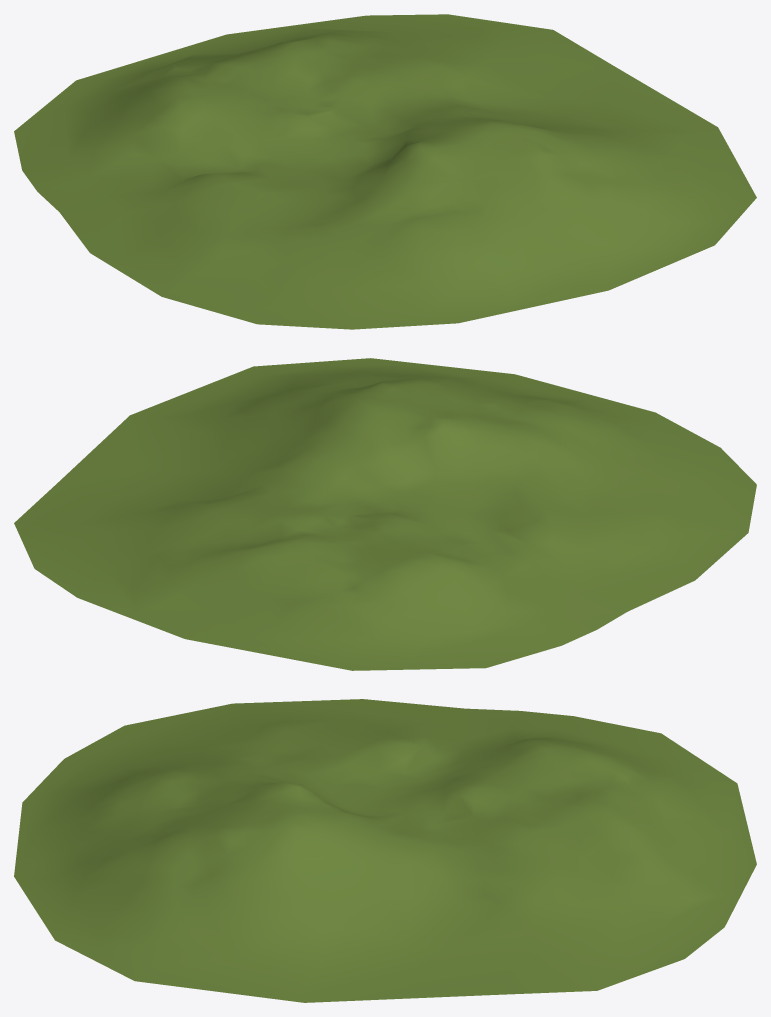
File: rpgpp_ag_terrain_generic_01.fbx
3 views of the same model, one above another, from view 1: azimuth 30°, elevation 25°; view 2: azimuth 150°, elevation 25°; view 3: azimuth 270°, elevation 25° (orthographic). The views are drawn at different scales.
Visible parts, largest first — view 1: rpgpp_ag_terrain_generic_01; view 2: rpgpp_ag_terrain_generic_01; view 3: rpgpp_ag_terrain_generic_01.
Part boxes in pixels (box(x1,y1,x2,y2)): rpgpp_ag_terrain_generic_01: box(14, 14, 756, 329); rpgpp_ag_terrain_generic_01: box(14, 358, 756, 670); rpgpp_ag_terrain_generic_01: box(14, 699, 756, 1002).
Size of the model in its own units: 54.82 by 5.55 by 56.64.
